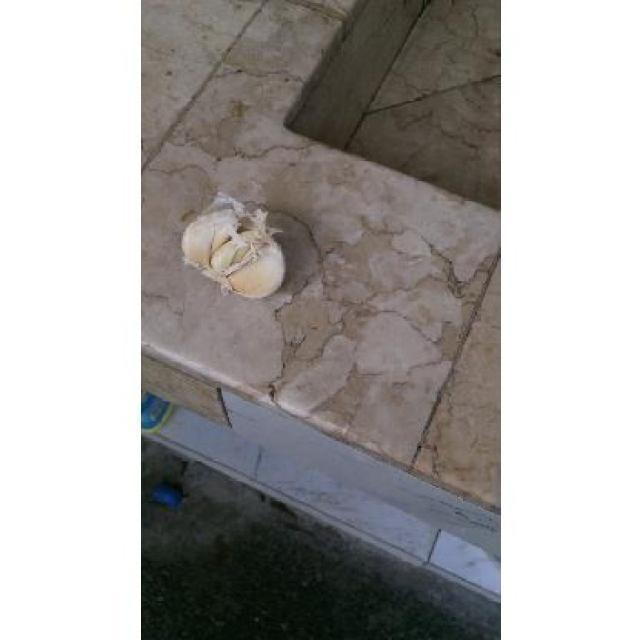garlic: (181, 192, 284, 298)
